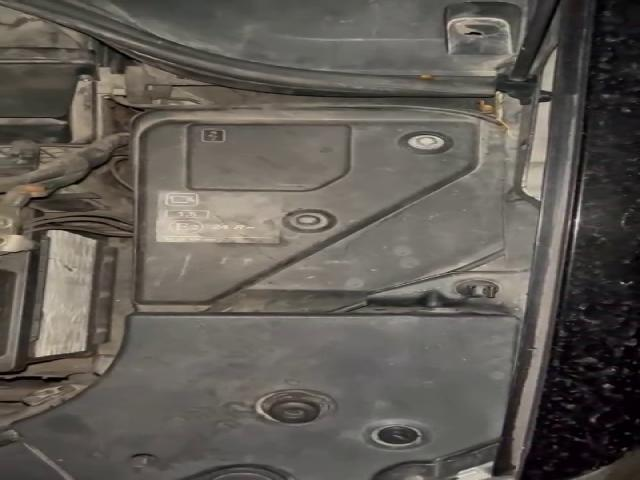fuse_box: (138, 120, 493, 304)
